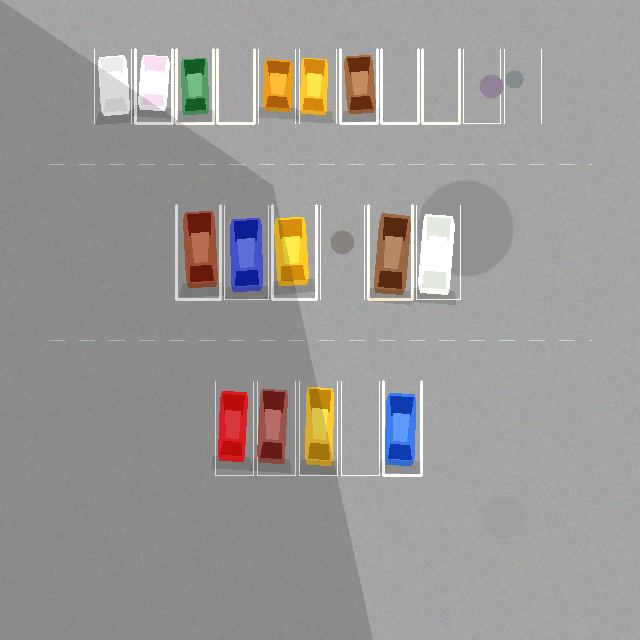space-empty: (320, 205, 364, 299), (341, 381, 379, 475), (217, 49, 254, 123), (381, 49, 418, 123), (422, 49, 459, 123), (463, 49, 500, 123), (504, 49, 541, 123)
space-occupied: (176, 205, 220, 299), (224, 205, 268, 299), (272, 205, 316, 299), (368, 205, 412, 299), (416, 205, 460, 299), (215, 381, 253, 475), (257, 381, 295, 475), (299, 381, 337, 475), (383, 381, 421, 475), (94, 49, 131, 123), (135, 49, 172, 123), (176, 49, 213, 123), (258, 49, 295, 123), (299, 49, 336, 123), (340, 49, 377, 123)
